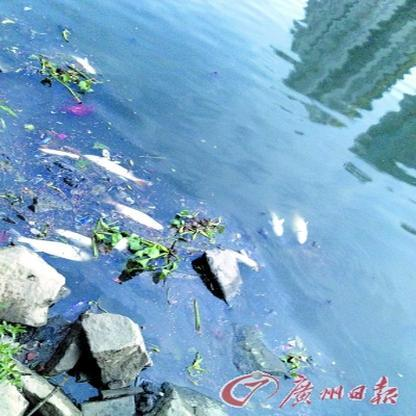deceased fish: (16, 234, 92, 264), (84, 150, 146, 186), (113, 202, 165, 233), (58, 225, 95, 246), (265, 209, 288, 236), (72, 52, 99, 75), (292, 211, 309, 247)
